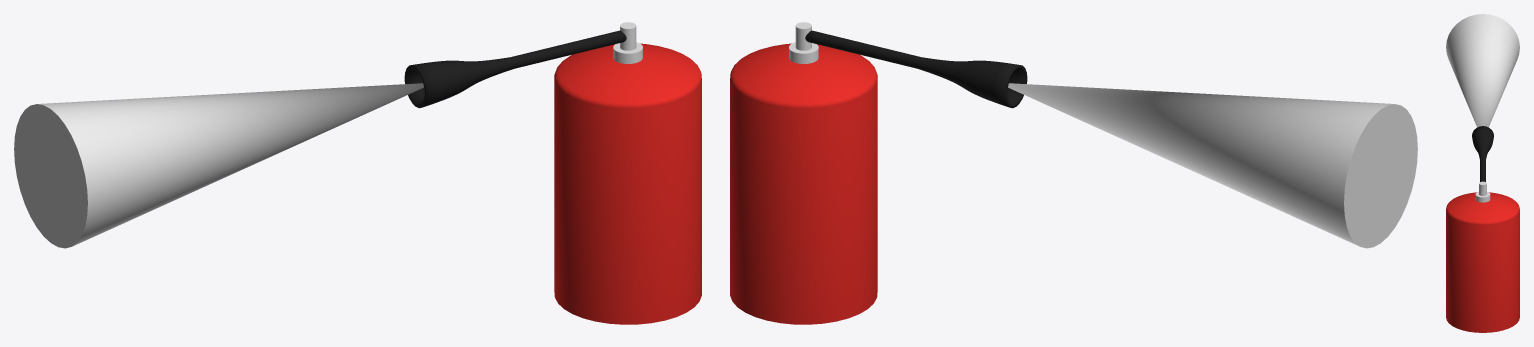
Rendered from extinguisher.fbx.
3 renders of one model, left to right at view 1: azimuth 30°, elevation 25°; view 2: azimuth 150°, elevation 25°; view 3: azimuth 270°, elevation 25°, orthographic. The views are drawn at different scales.
Visible parts, largest first — view 1: Cylinder, Cone, Tube, Metal; view 2: Cylinder, Cone, Tube, Metal; view 3: Cylinder, Cone, Tube, Metal.
Part boxes in pixels (left/top/right/bottom): Cylinder: left=554, top=43, right=701, bottom=324; Cone: left=14, top=83, right=423, bottom=248; Tube: left=404, top=30, right=626, bottom=108; Metal: left=613, top=22, right=642, bottom=63; Cylinder: left=730, top=43, right=877, bottom=324; Cone: left=1008, top=83, right=1417, bottom=248; Tube: left=805, top=30, right=1027, bottom=108; Metal: left=789, top=22, right=818, bottom=63; Cylinder: left=1446, top=192, right=1519, bottom=332; Cone: left=1446, top=14, right=1519, bottom=127; Tube: left=1472, top=126, right=1493, bottom=181; Metal: left=1475, top=181, right=1490, bottom=202.
Bounding box in the file's own units: 1002 × 485 × 200.
